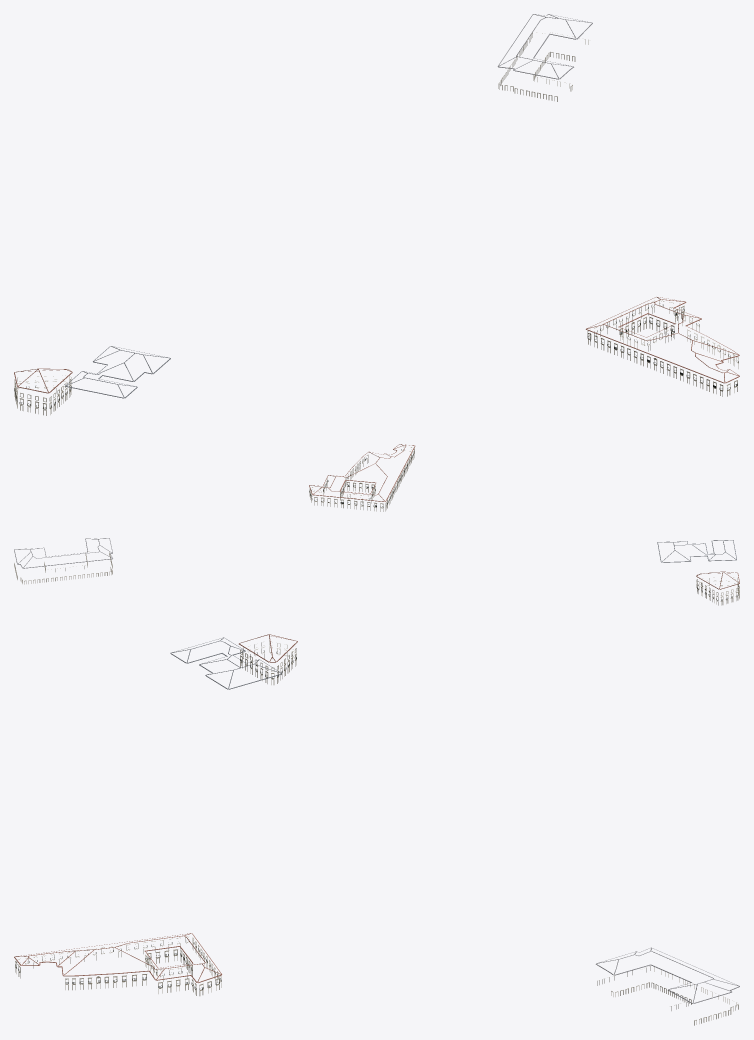
3 views of the same model, one above another, from view 1: azimuth 30°, elevation 25°; view 2: azimuth 150°, elevation 25°; view 3: azimuth 270°, elevation 25° (orthographic). The views are drawn at different scales.
Parts seen in each view (by area): view 1: detail; view 2: detail; view 3: detail.
Boxes of the visible parts, left/top/right/bottom form: detail: left=14, top=14, right=739, bottom=415; detail: left=14, top=444, right=739, bottom=605; detail: left=14, top=634, right=739, bottom=1025.
Size of the model in its own units: 394 by 37.4 by 317.
